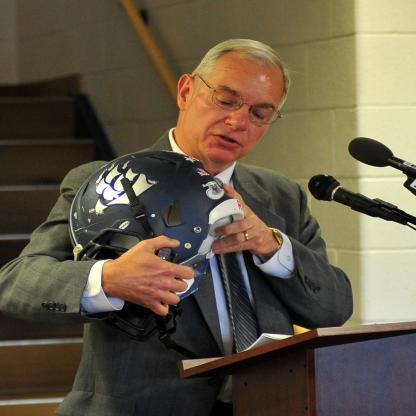Helmet: (70, 151, 246, 345)
